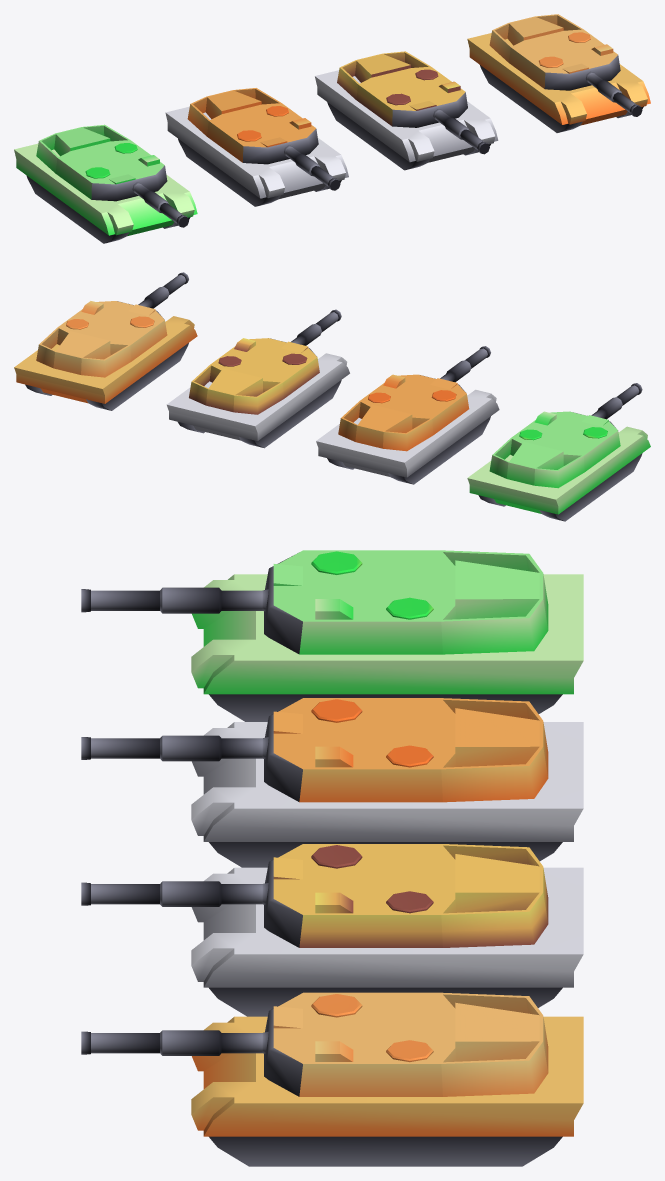
The model's file is Tanks_Test.fbx.
3 views of the same model, one above another, from view 1: azimuth 30°, elevation 25°; view 2: azimuth 150°, elevation 25°; view 3: azimuth 270°, elevation 25° (orthographic). The views are drawn at different scales.
Parts seen in each view (by area): view 1: Plane008, Plane002, Plane006, Plane004, Plane007, Plane003, Plane005, Plane001; view 2: Plane002, Plane004, Plane008, Plane006, Plane007, Plane001, Plane003, Plane005; view 3: Plane002, Plane004, Plane008, Plane007, Plane006, Plane005, Plane001, Plane003.
Boxes of the visible parts, left/top/right/bottom form: Plane008: left=489, top=14, right=642, bottom=116; Plane002: left=36, top=124, right=188, bottom=227; Plane006: left=337, top=51, right=489, bottom=154; Plane004: left=187, top=88, right=340, bottom=190; Plane007: left=467, top=33, right=650, bottom=132; Plane003: left=165, top=106, right=348, bottom=206; Plane005: left=315, top=70, right=498, bottom=170; Plane001: left=14, top=143, right=197, bottom=243; Plane002: left=489, top=383, right=642, bottom=488; Plane004: left=338, top=346, right=490, bottom=451; Plane008: left=36, top=272, right=188, bottom=377; Plane006: left=189, top=309, right=341, bottom=414; Plane007: left=14, top=316, right=197, bottom=410; Plane001: left=467, top=426, right=650, bottom=521; Plane003: left=316, top=389, right=499, bottom=484; Plane005: left=166, top=353, right=349, bottom=448; Plane002: left=81, top=550, right=548, bottom=654; Plane004: left=81, top=698, right=548, bottom=802; Plane008: left=81, top=992, right=548, bottom=1096; Plane007: left=191, top=1016, right=583, bottom=1166; Plane006: left=81, top=844, right=548, bottom=947; Plane005: left=191, top=867, right=583, bottom=1016; Plane001: left=191, top=574, right=583, bottom=721; Plane003: left=191, top=722, right=583, bottom=867.
Size of the model in its own units: 480 by 46.18 by 193.
Materials: 1 (1 with a texture image).
